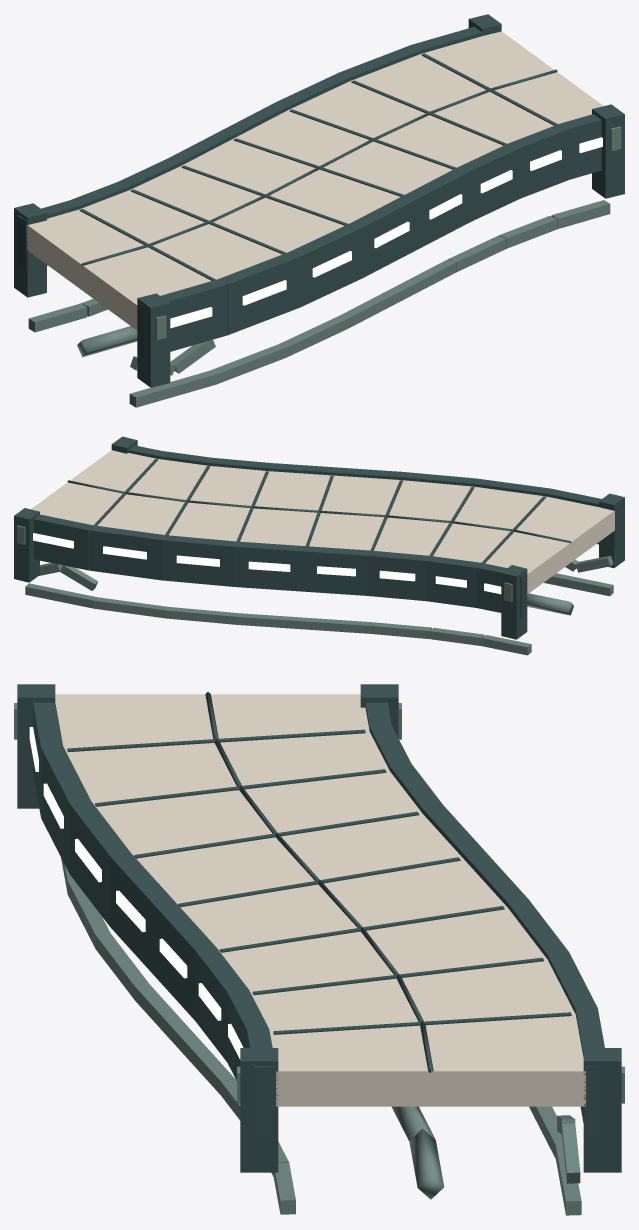
File: Sbend_L2_lab.glb
3 views of the same model, one above another, from view 1: azimuth 30°, elevation 25°; view 2: azimuth 150°, elevation 25°; view 3: azimuth 270°, elevation 25° (orthographic). The views are drawn at different scales.
Visible parts, largest first — view 1: Sbend_L2; view 2: Sbend_L2; view 3: Sbend_L2.
Boxes of the visible parts, x1,y1,x2,y2 form: Sbend_L2: (14,14,624,407); Sbend_L2: (14,436,624,655); Sbend_L2: (14,684,624,1215).
Size of the model in its own units: 8.05 by 1.52 by 5.48.
